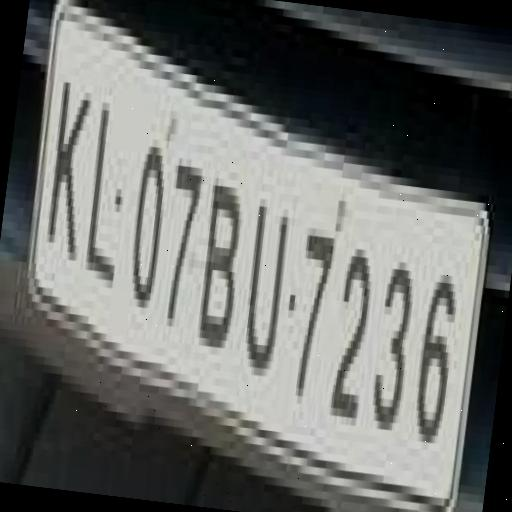number plate: (0, 32, 507, 477)
